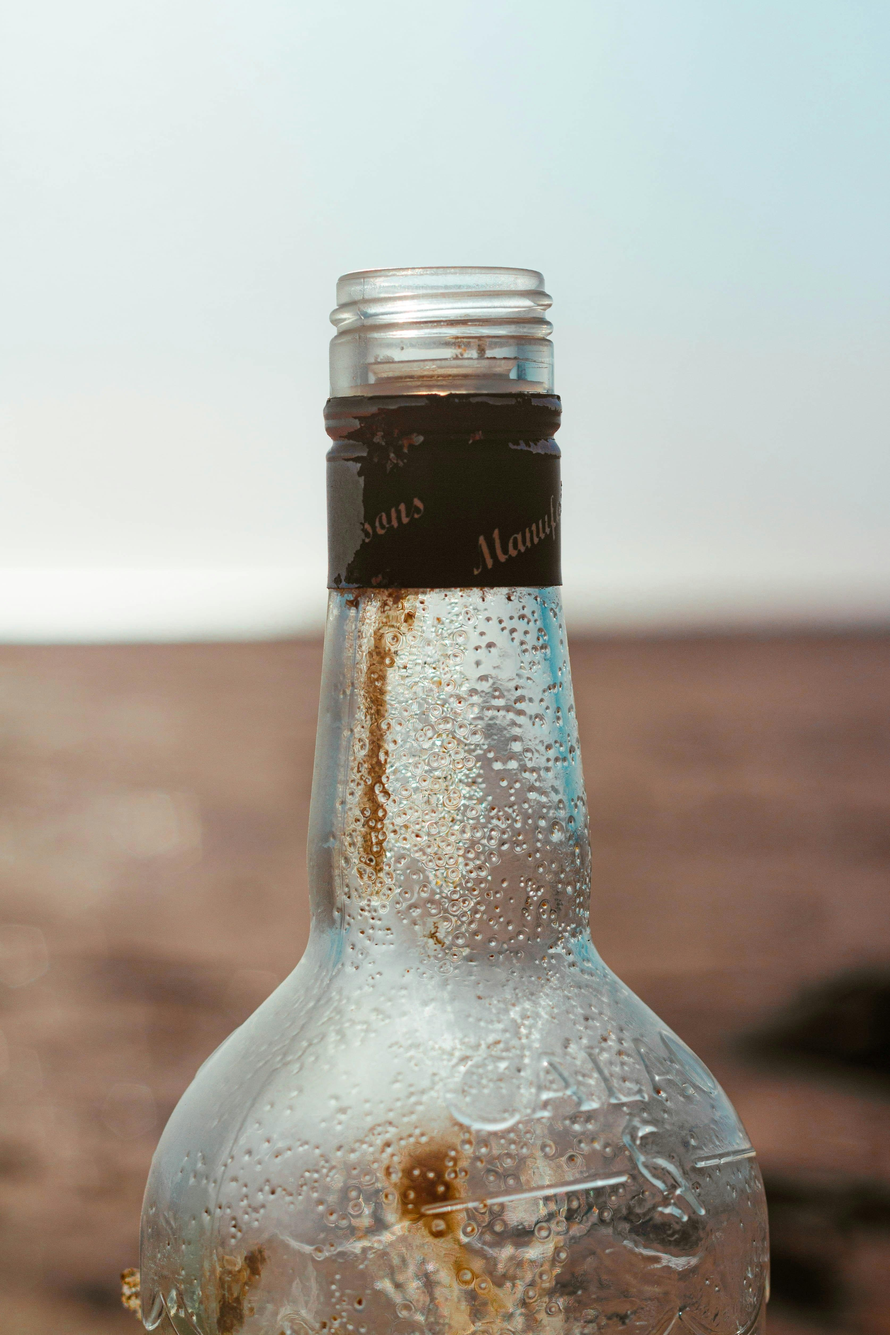Bottle-Detection: (104, 165, 795, 1335)
